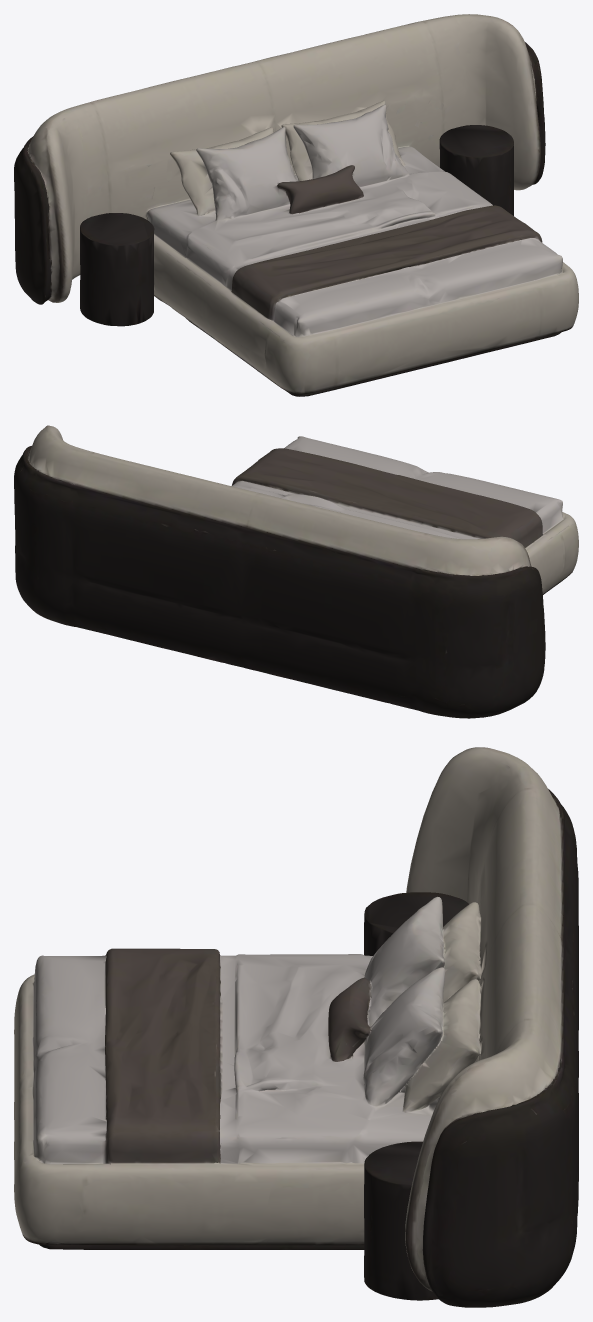
Rendered from wraparound-linen-bed.glb.
3 renders of one model, top to bottom at view 1: azimuth 30°, elevation 25°; view 2: azimuth 150°, elevation 25°; view 3: azimuth 270°, elevation 25°, orthographic. The views are drawn at different scales.
Parts seen in each view (by area): view 1: world; view 2: world; view 3: world.
Boxes of the visible parts, x1=… form: world: x1=14, y1=14, x2=578, y2=396; world: x1=14, y1=425, x2=578, y2=718; world: x1=14, y1=747, x2=578, y2=1307.
Bounding box in the file's own units: 1 × 0.3339 × 0.6758.
Materials: 1 (1 with a texture image).
